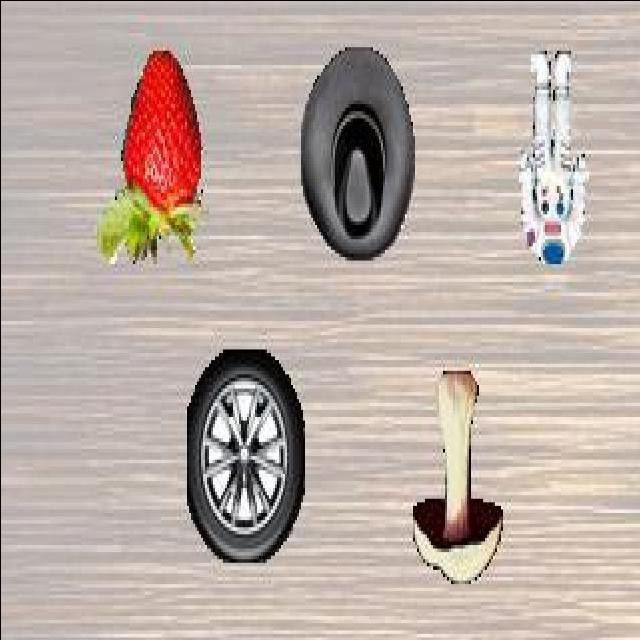Other Objects: (300, 45, 414, 262), (411, 372, 502, 584), (518, 49, 587, 268)
